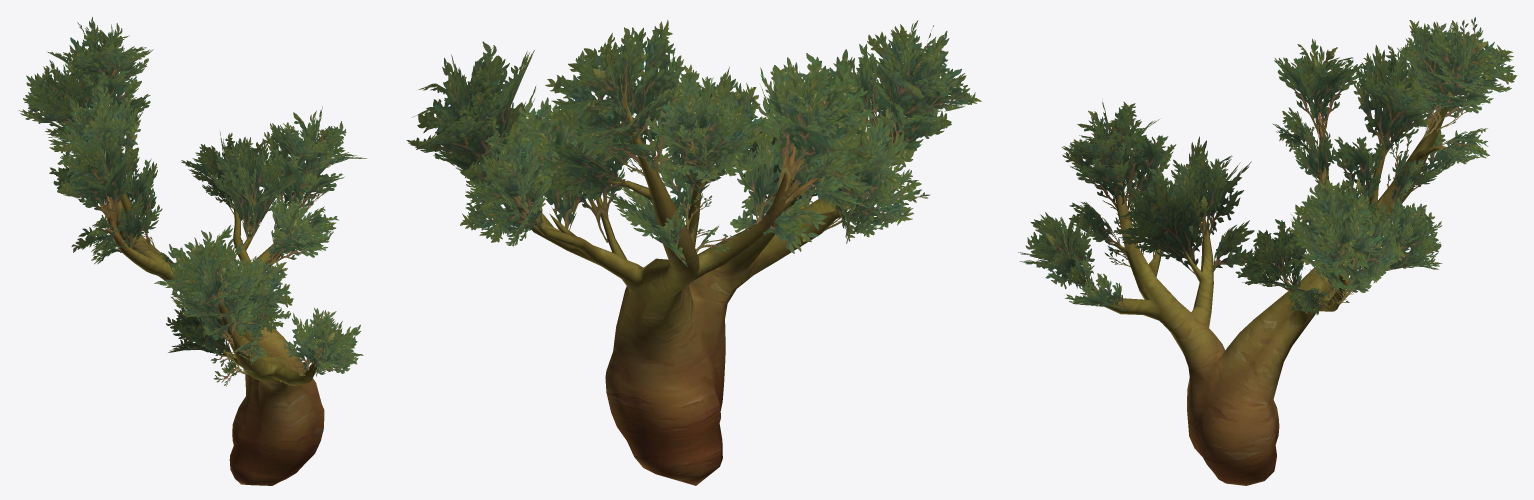
3 views of the same model, side by side, from view 1: azimuth 30°, elevation 25°; view 2: azimuth 150°, elevation 25°; view 3: azimuth 270°, elevation 25° (orthographic). The views are drawn at different scales.
Size of the model in its own units: 13.9 by 17.31 by 18.3.
2 materials, 2 textured.
